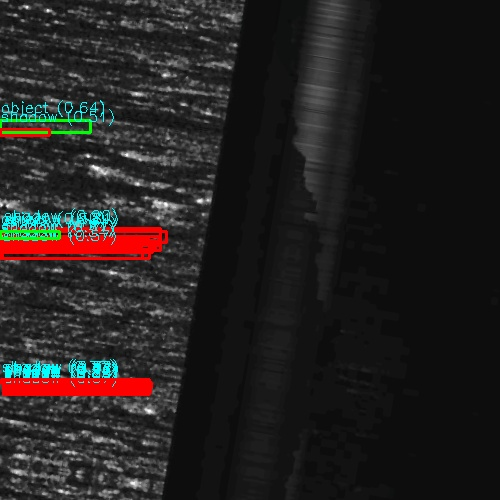rock: (0, 233, 32, 250), (0, 381, 22, 386)
shadow: (0, 233, 157, 250), (0, 269, 95, 282), (0, 381, 151, 386), (0, 393, 72, 402)
